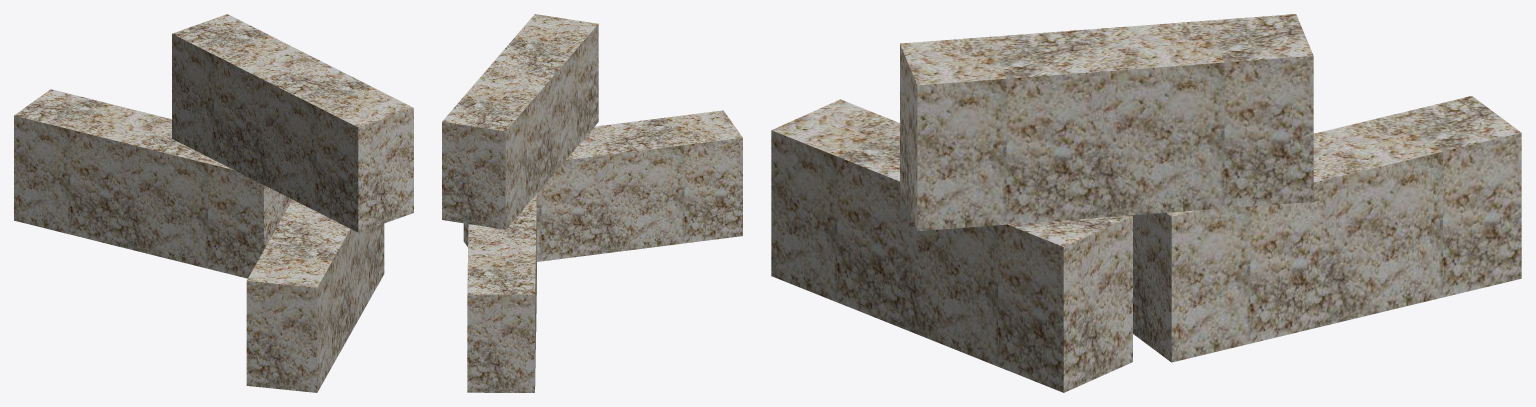
Rendered from slag.fbx.
3 renders of one model, left to right at view 1: azimuth 30°, elevation 25°; view 2: azimuth 150°, elevation 25°; view 3: azimuth 270°, elevation 25°, orthographic. The views are drawn at different scales.
Parts seen in each view (by area): view 1: Box003, Box001, Box002; view 2: Box002, Box003, Box001; view 3: Box003, Box001, Box002.
Part boxes in pixels (x1=…): Box003: x1=172, y1=14, x2=413, y2=232; Box001: x1=14, y1=89, x2=292, y2=278; Box002: x1=246, y1=199, x2=384, y2=392; Box002: x1=463, y1=110, x2=742, y2=261; Box003: x1=442, y1=14, x2=598, y2=229; Box001: x1=467, y1=194, x2=536, y2=392; Box003: x1=900, y1=14, x2=1313, y2=231; Box001: x1=1131, y1=96, x2=1521, y2=362; Box002: x1=771, y1=99, x2=1132, y2=392.
Size of the model in its own units: 17.79 by 16 by 37.28.
Materials: 1 (1 with a texture image).
